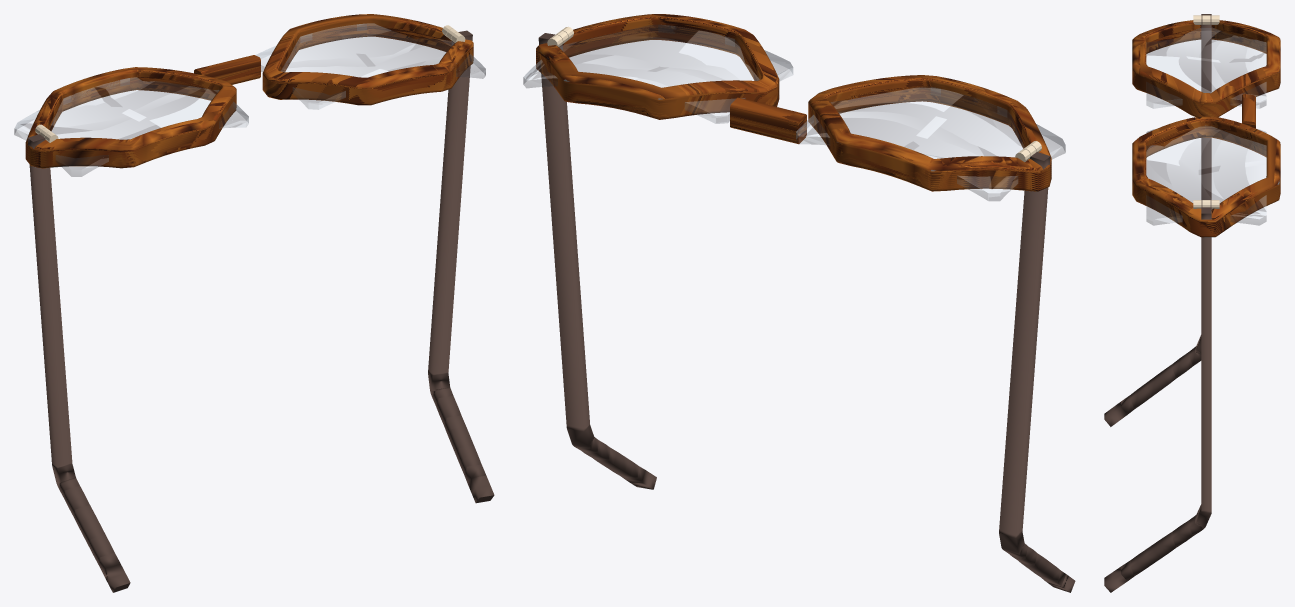
File: panto.glb
The picture shows the model from 3 angles, left to right: view 1: azimuth 30°, elevation 25°; view 2: azimuth 150°, elevation 25°; view 3: azimuth 270°, elevation 25°; orthographic projection. The views are drawn at different scales.
Visible parts, largest first — view 1: MEL_eyewear_Frame, MEL_eyewear_TempleR, MEL_eyewear_TempleL, MEL_eyewear_LensL, MEL_eyewear_LensR; view 2: MEL_eyewear_Frame, MEL_eyewear_LensL, MEL_eyewear_TempleL, MEL_eyewear_LensR, MEL_eyewear_TempleR; view 3: MEL_eyewear_Frame, MEL_eyewear_LensR, MEL_eyewear_LensL, MEL_eyewear_TempleL, MEL_eyewear_TempleR.
Part boxes in pixels (x1,y1,x2,y2): MEL_eyewear_Frame: (25,14,473,168); MEL_eyewear_TempleR: (27,134,130,592); MEL_eyewear_TempleL: (428,30,494,503); MEL_eyewear_LensL: (14,77,248,176); MEL_eyewear_LensR: (255,23,485,109); MEL_eyewear_Frame: (536,14,1051,191); MEL_eyewear_LensL: (796,87,1065,200); MEL_eyewear_TempleL: (538,33,656,489); MEL_eyewear_LensR: (523,24,793,123); MEL_eyewear_TempleR: (999,152,1075,592); MEL_eyewear_Frame: (1132,15,1280,237); MEL_eyewear_LensR: (1146,125,1266,225); MEL_eyewear_LensL: (1146,27,1266,108); MEL_eyewear_TempleL: (1104,206,1211,592); MEL_eyewear_TempleR: (1104,14,1211,426).
Bounding box in the file's own units: 0.1339 × 0.1268 × 0.0499.
Materials: 5 (3 with a texture image).
